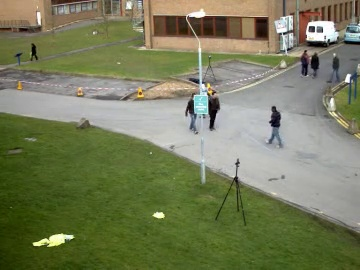person: (185, 93, 199, 135), (183, 90, 197, 131), (183, 91, 197, 131)
